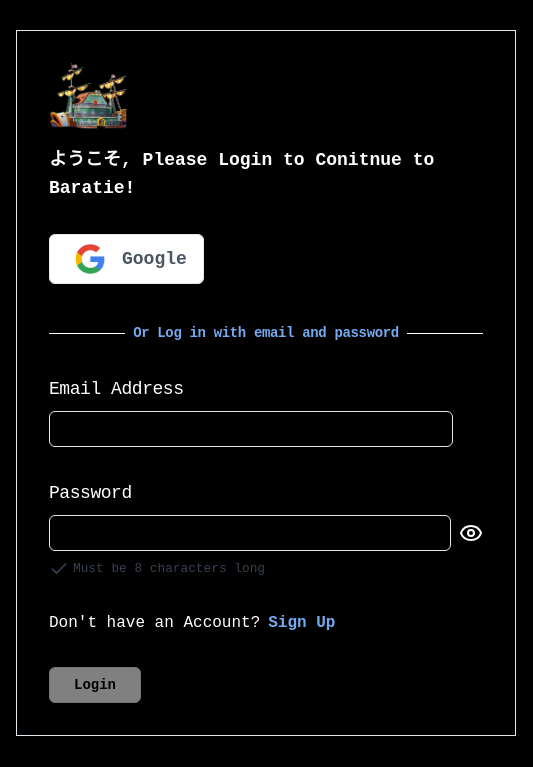
Test: Login Page › should display an error if invalid email is entered and the login button should be disabled
The width and height of the screenshot is (533, 767).
Step 1. Type "secret123" into the field named "email address" → (251, 429), box [49,411,453,447]
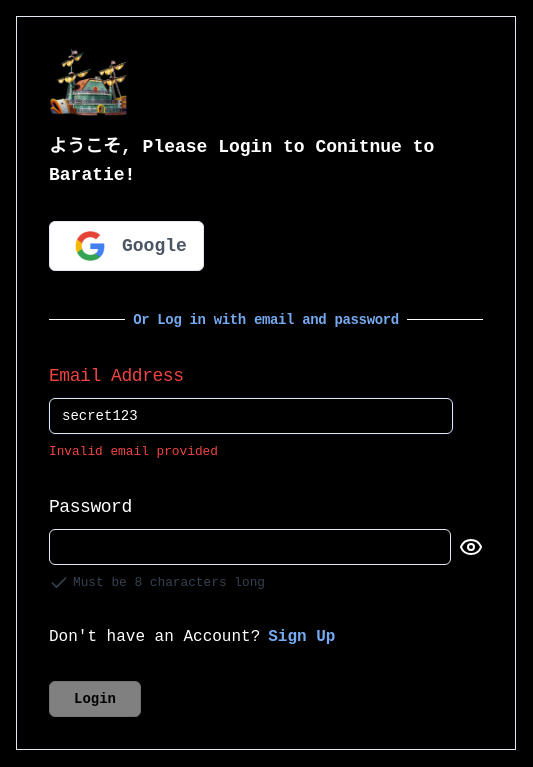
Expected: the button "Login" is disabled, [49,681,141,717]
Expected: the text named "error" shows "Invalid email", [49,444,218,459]
